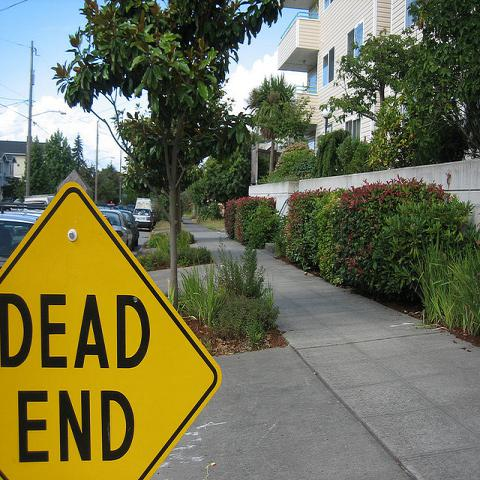car: (1, 210, 44, 270), (101, 210, 133, 250), (112, 210, 140, 250), (132, 198, 154, 230), (23, 194, 51, 208)
